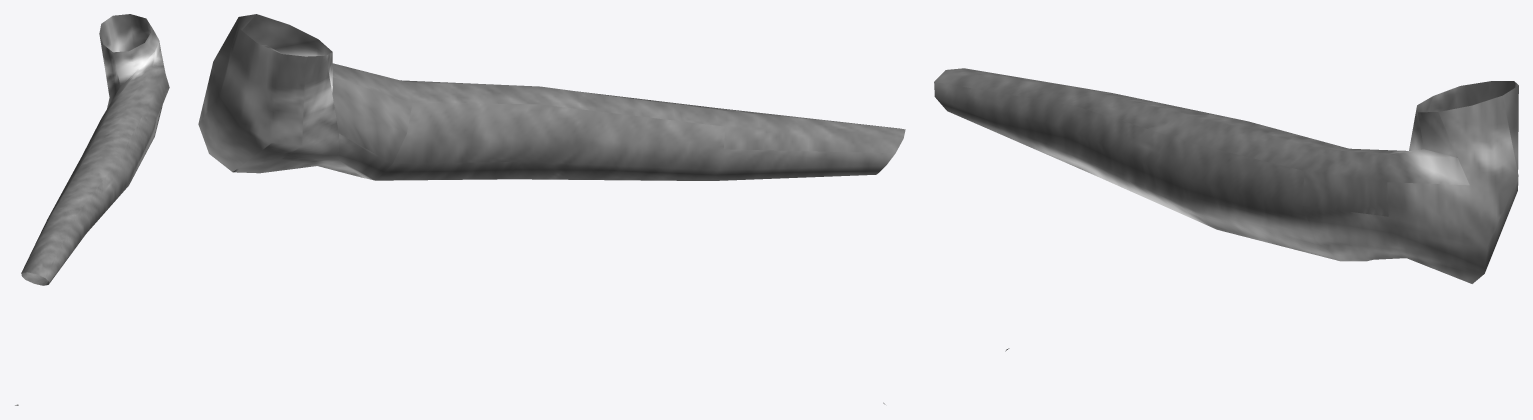
The model's file is lefthand2.obj.
3 renders of one model, left to right at view 1: azimuth 30°, elevation 25°; view 2: azimuth 150°, elevation 25°; view 3: azimuth 270°, elevation 25°, orthographic. The views are drawn at different scales.
Parts seen in each view (by area): view 1: body; view 2: body; view 3: body.
Part boxes in pixels (x1=…): body: x1=15, y1=14, x2=169, y2=405; body: x1=198, y1=14, x2=905, y2=404; body: x1=934, y1=68, x2=1518, y2=351.
Bounding box in the file's own units: 54.35 × 47.45 × 51.68.
1 material, 1 textured.
